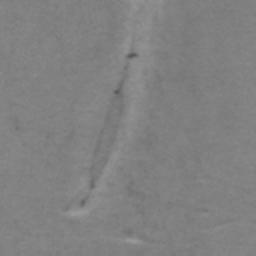Finishing roll printing: (78, 31, 140, 209)
